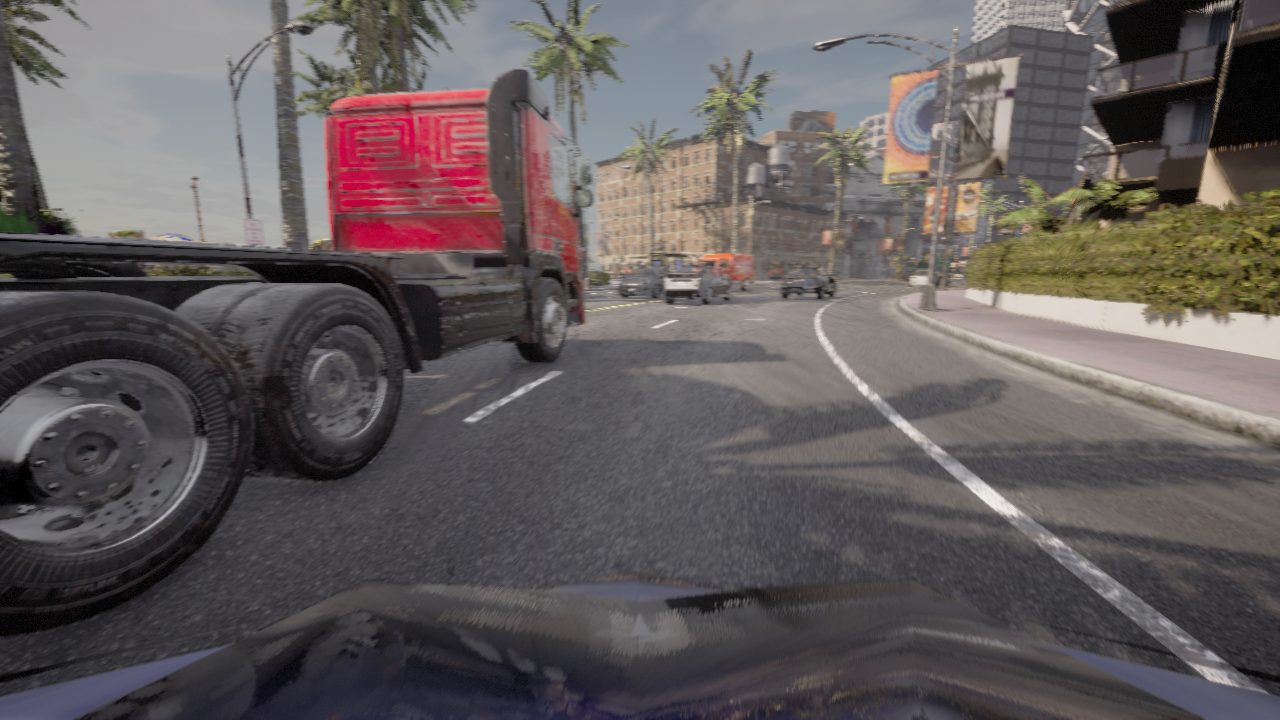cyclist: (0, 68, 592, 636), (0, 569, 1279, 719), (664, 265, 731, 304), (690, 253, 753, 291), (780, 264, 836, 299), (619, 267, 672, 298), (909, 269, 948, 287)
